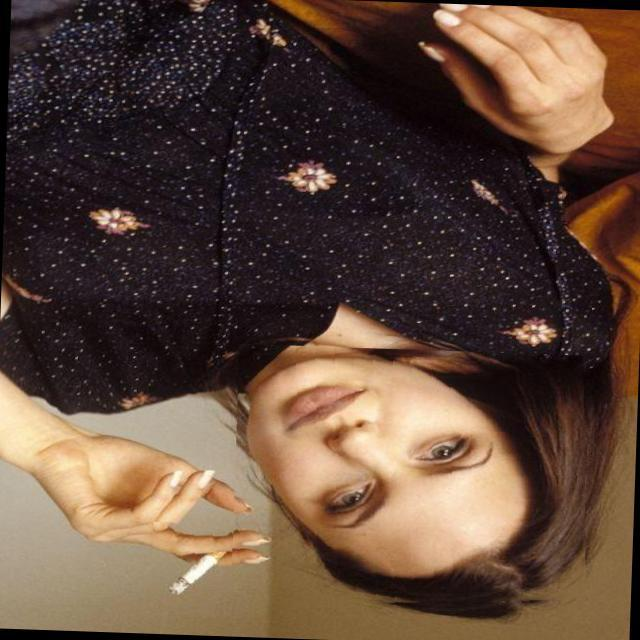cigarette: (149, 522, 273, 618)
